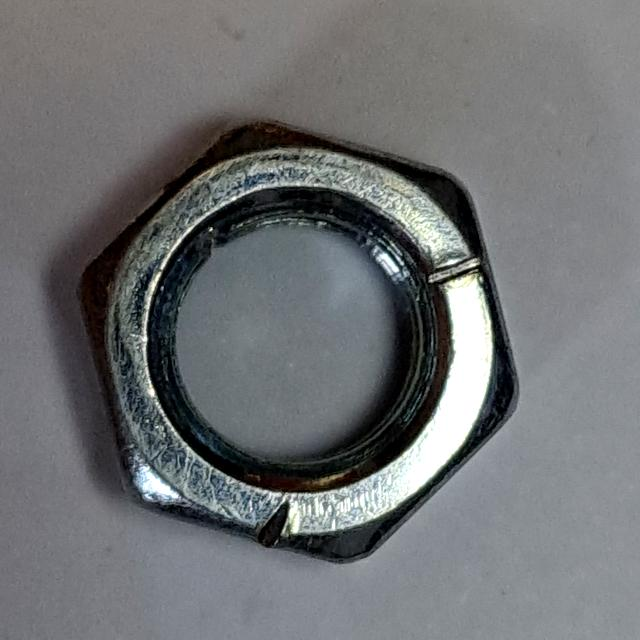Scratches: (66, 105, 542, 583)
